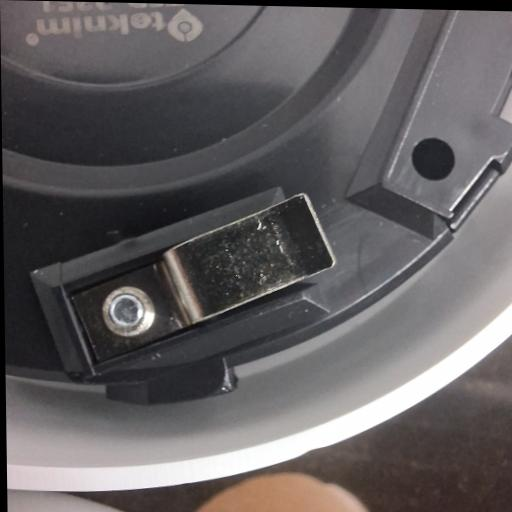yaysiz: (57, 192, 332, 374)
